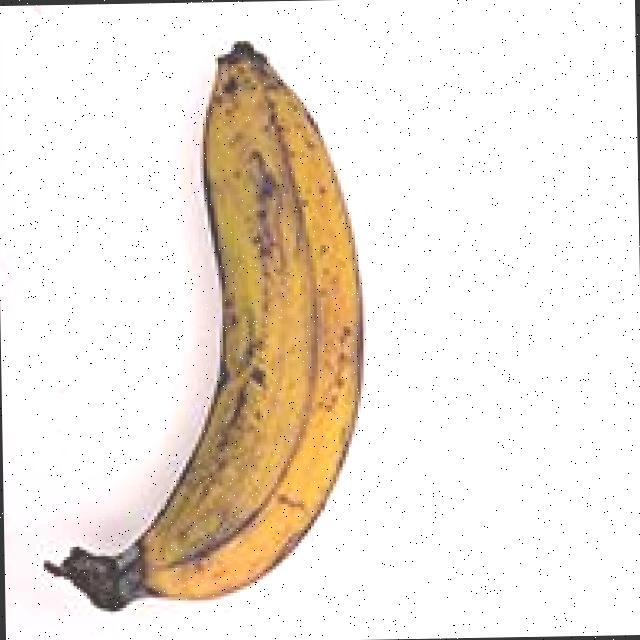Overripe: (16, 14, 412, 616)
